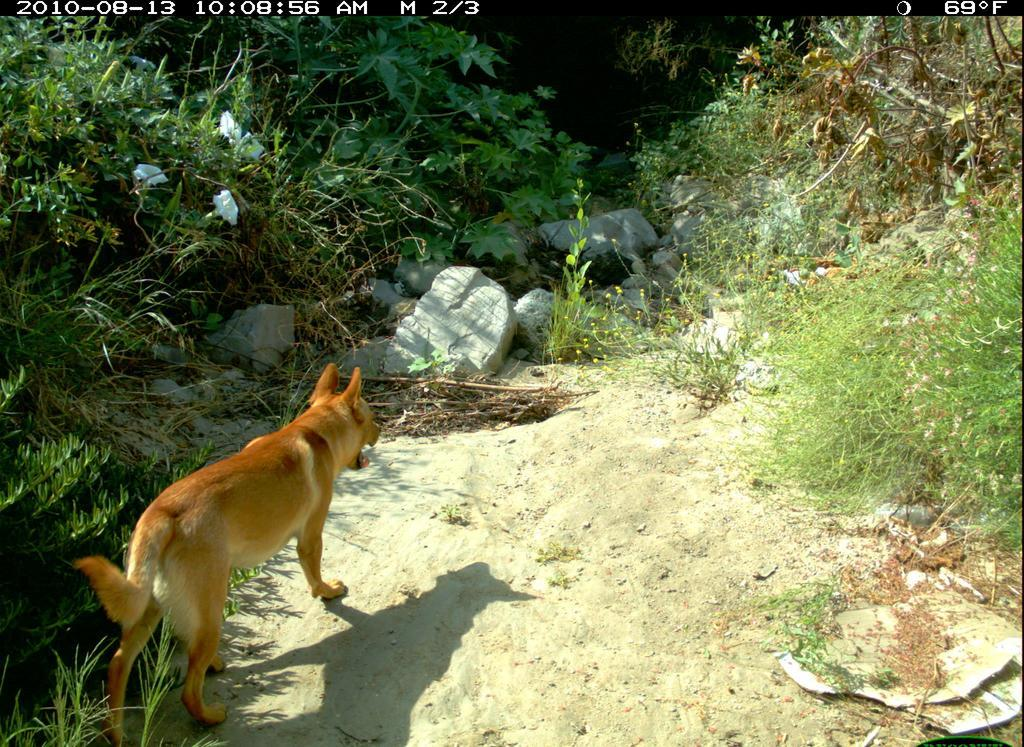dog: (76, 356, 399, 739)
